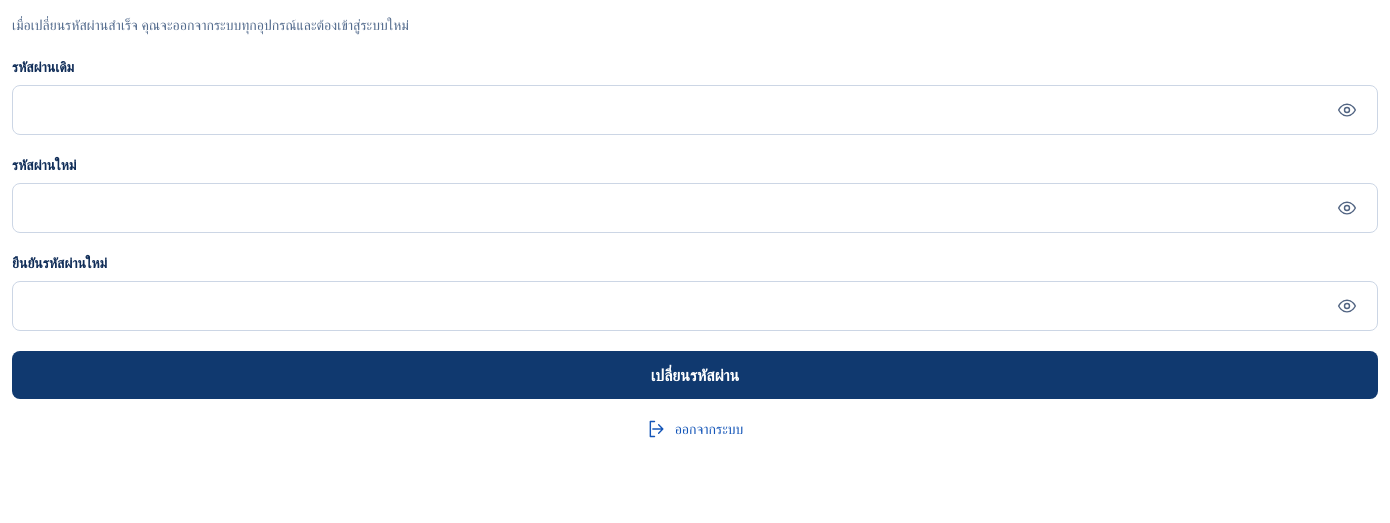
Scenario: maps users.wrong_password onto the old-password field by code
In the password field labelled "รหัสผ่านเดิม": (673, 110) [27,86,1319,134], type "synthetic-old"
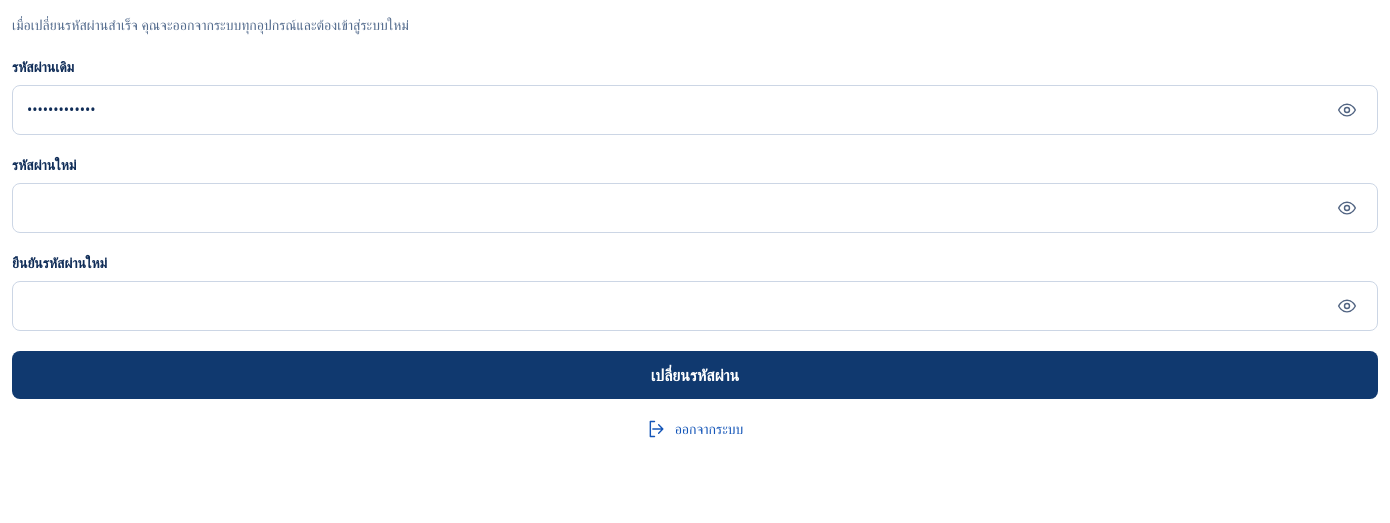
In the password field labelled "รหัสผ่านใหม่": (673, 208) [27,184,1319,232], type "synthetic-new"
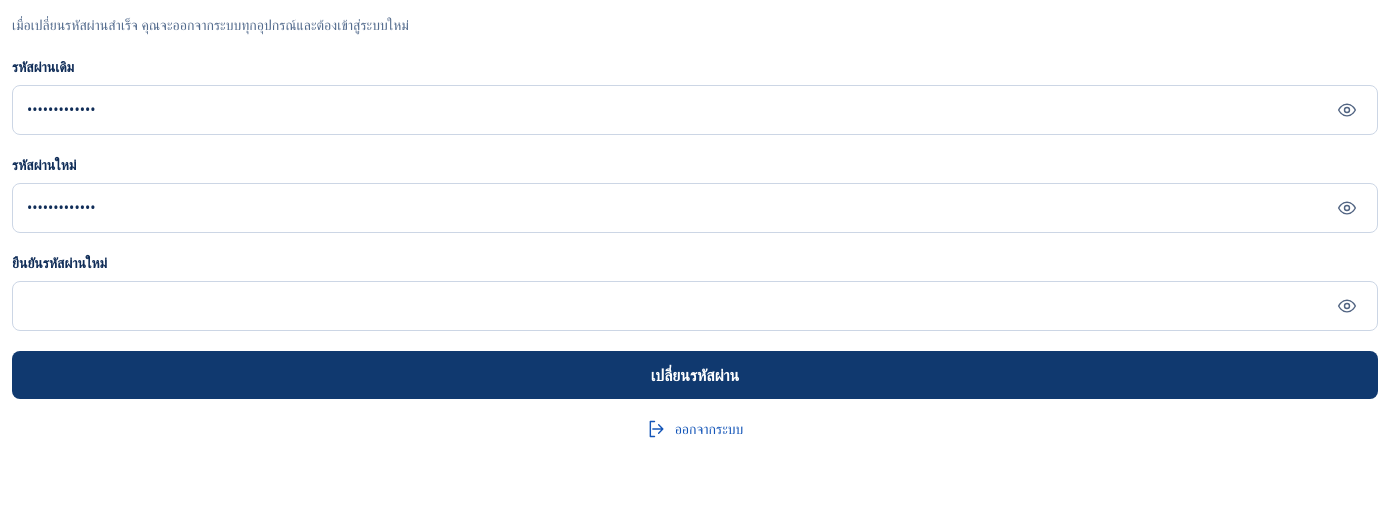
In the password field labelled "ยืนยันรหัสผ่านใหม่": (673, 306) [27,282,1319,330], type "synthetic-new"
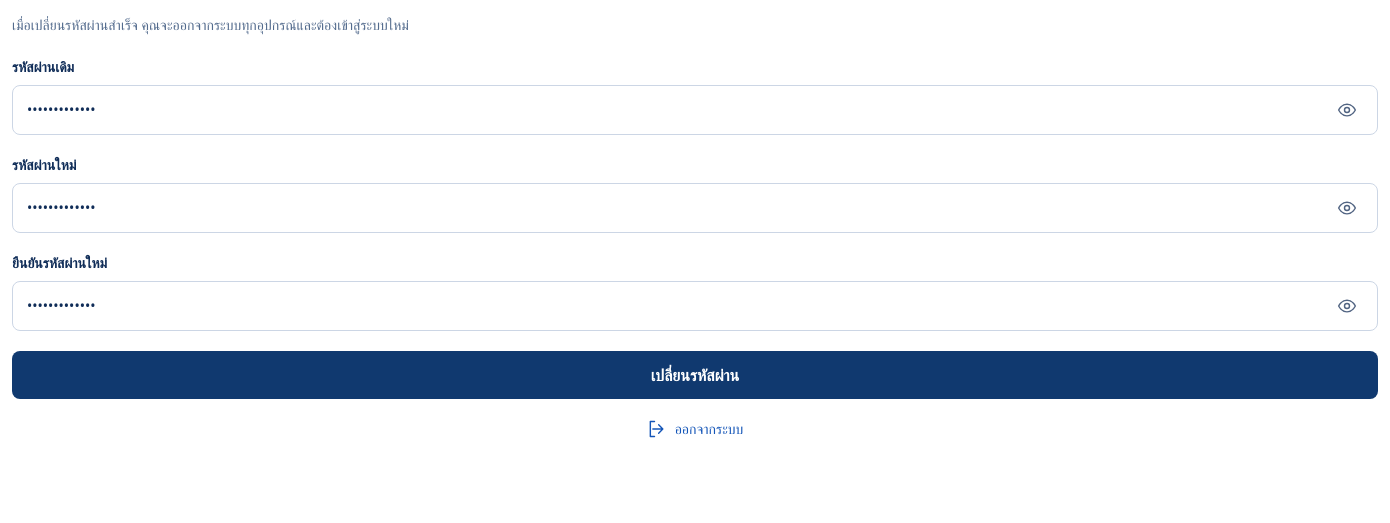
Click the button "เปลี่ยนรหัสผ่าน": (695, 375) [12,351,1378,399]
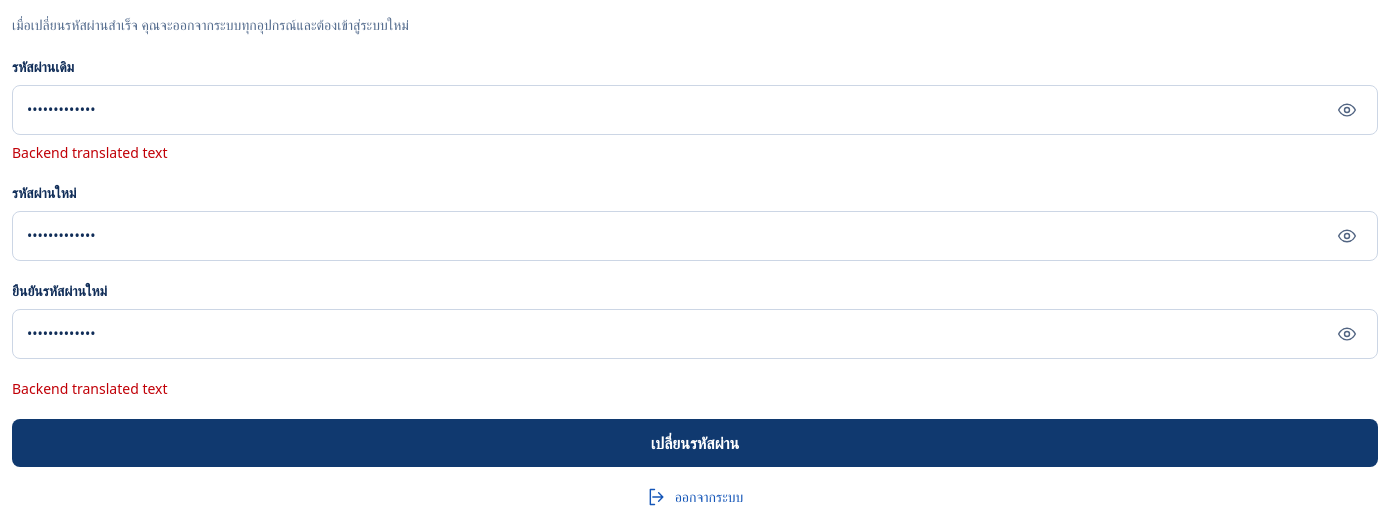
Check: the text "Backend translated text" is shown, box [12,143,168,162]
Check: the 2nd text "Backend translated text" is shown, box [12,379,168,398]
